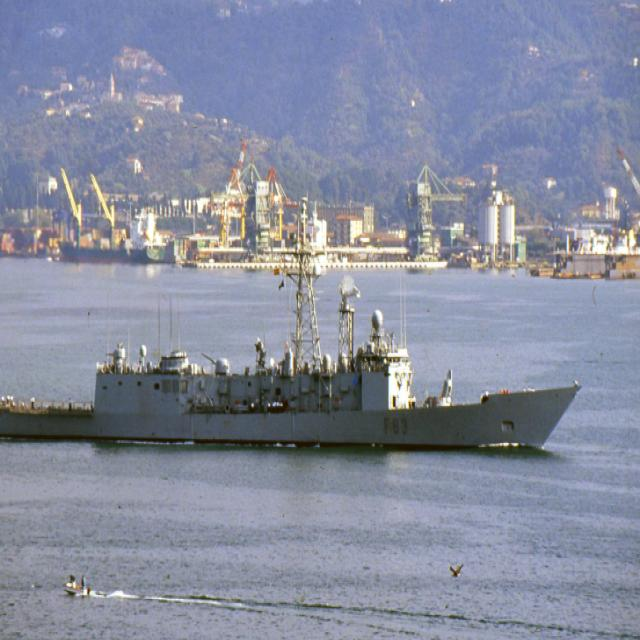Fragata: (1, 203, 585, 461)
